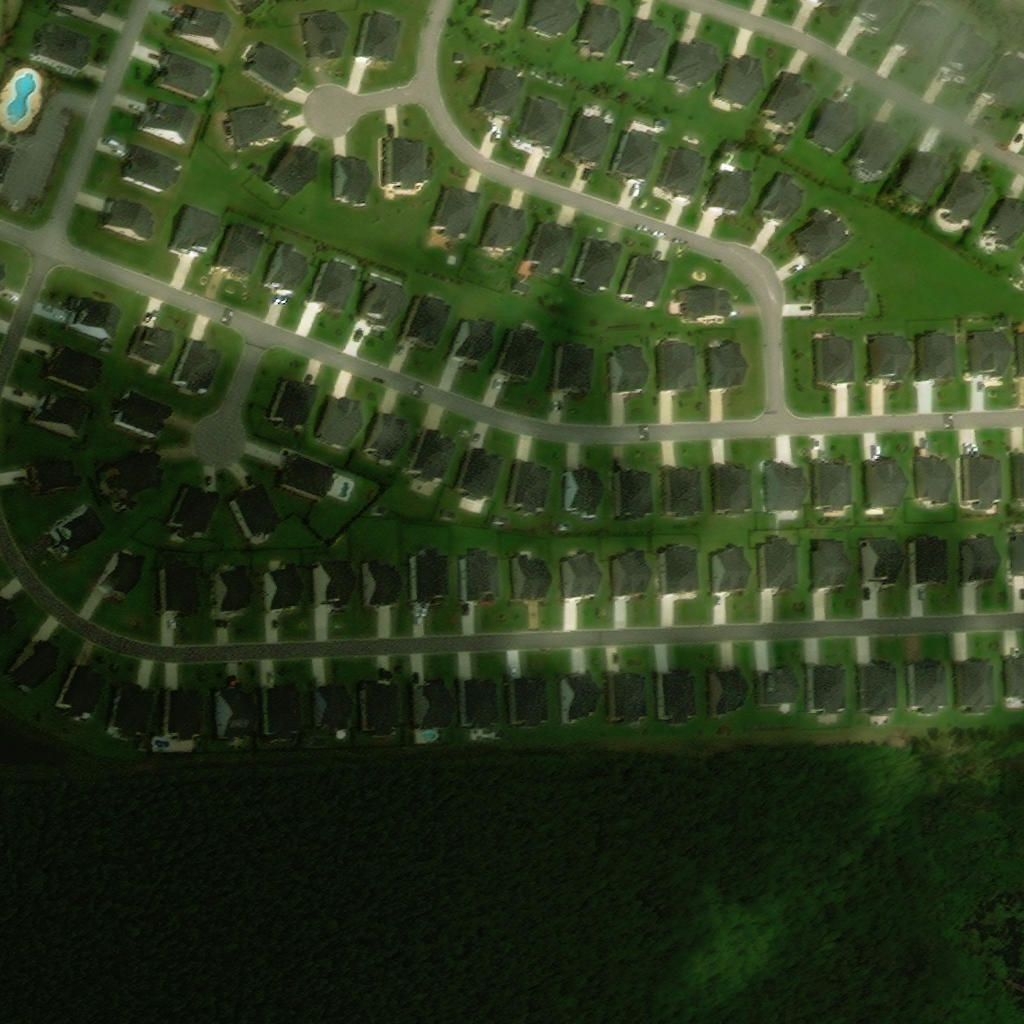no_damage: (940, 21, 991, 86), (571, 234, 622, 297), (794, 207, 849, 265), (104, 446, 163, 500), (157, 49, 218, 101), (167, 482, 222, 539), (50, 501, 106, 556), (265, 142, 320, 198), (122, 142, 181, 194), (55, 663, 108, 720), (895, 1, 948, 58), (764, 71, 818, 126), (250, 41, 306, 94), (619, 250, 670, 308), (173, 5, 235, 52), (47, 341, 103, 393), (230, 481, 282, 537), (433, 183, 483, 241), (225, 101, 284, 150), (5, 639, 61, 690), (113, 389, 171, 438), (941, 166, 990, 224), (33, 22, 92, 70), (527, 217, 575, 276), (498, 324, 545, 384), (268, 377, 320, 431), (308, 257, 360, 311), (808, 99, 860, 152), (853, 120, 905, 173), (216, 223, 267, 277), (407, 428, 457, 483), (173, 338, 223, 393), (401, 292, 451, 347), (622, 18, 671, 74), (108, 682, 155, 740), (478, 66, 526, 122), (138, 99, 196, 145), (897, 149, 948, 201), (314, 396, 364, 449), (355, 10, 404, 64), (281, 451, 336, 499), (66, 294, 122, 341), (358, 274, 404, 331), (168, 203, 216, 257), (659, 145, 706, 200), (613, 129, 660, 184), (456, 445, 502, 501), (508, 459, 553, 516), (519, 96, 566, 150), (28, 393, 87, 436), (480, 202, 526, 257), (981, 50, 1023, 110), (818, 268, 870, 316), (362, 412, 409, 465), (716, 54, 763, 107), (385, 136, 432, 189), (759, 171, 805, 225), (578, 2, 623, 57), (669, 39, 719, 88), (568, 113, 613, 167), (100, 197, 154, 242), (264, 241, 308, 296), (98, 549, 147, 598), (706, 165, 753, 216), (450, 317, 498, 365), (983, 195, 1023, 252), (411, 545, 450, 603), (264, 682, 302, 739), (361, 681, 399, 737), (908, 658, 946, 714), (659, 669, 697, 724), (957, 657, 994, 713), (760, 534, 798, 588), (461, 548, 499, 602), (554, 341, 595, 391), (859, 660, 896, 715), (608, 670, 647, 722), (660, 543, 699, 595), (658, 340, 696, 393), (917, 330, 957, 380), (215, 687, 254, 738), (614, 468, 653, 519), (969, 328, 1008, 379), (128, 323, 174, 366), (666, 467, 704, 519), (564, 465, 601, 518), (817, 333, 854, 386), (965, 454, 1001, 508), (460, 678, 498, 729), (26, 458, 81, 493), (510, 675, 547, 727), (716, 464, 753, 516), (412, 679, 451, 728), (305, 10, 344, 59), (316, 558, 352, 611), (677, 286, 730, 322), (866, 456, 904, 506), (165, 688, 202, 739), (162, 559, 199, 610), (528, 0, 576, 39), (766, 460, 804, 509), (562, 671, 597, 724), (815, 459, 852, 509), (871, 332, 908, 382), (709, 667, 745, 718), (335, 155, 371, 206), (808, 664, 846, 712), (862, 537, 899, 586), (610, 344, 646, 394), (916, 455, 951, 506), (910, 533, 946, 582), (713, 545, 749, 594), (813, 539, 848, 588), (711, 341, 746, 390), (961, 535, 996, 583), (614, 548, 649, 596), (364, 558, 398, 607), (214, 564, 250, 610), (564, 551, 599, 598), (265, 561, 299, 608), (515, 553, 548, 600), (47, 0, 111, 24), (315, 685, 350, 728), (856, 0, 900, 34), (759, 666, 794, 704), (478, 0, 521, 23), (1005, 655, 1023, 702), (0, 596, 18, 636), (1009, 532, 1023, 575), (1013, 322, 1023, 379), (0, 145, 14, 184), (232, 0, 264, 13), (1014, 452, 1023, 498), (776, 131, 793, 148), (513, 279, 531, 295), (820, 0, 844, 9), (122, 498, 137, 512), (250, 162, 264, 175), (656, 117, 669, 130), (723, 140, 736, 153), (99, 341, 113, 353), (441, 509, 456, 519), (307, 736, 321, 746), (138, 739, 151, 749), (998, 315, 1008, 327), (490, 728, 503, 737), (336, 728, 347, 738), (372, 505, 384, 514), (494, 515, 507, 523), (456, 52, 466, 61), (560, 522, 569, 529)
